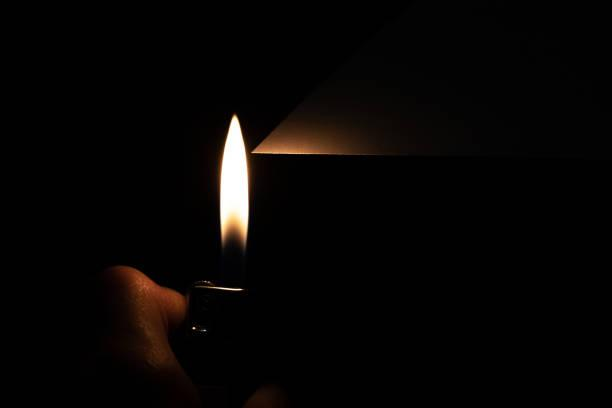Fire: (218, 107, 253, 279)
